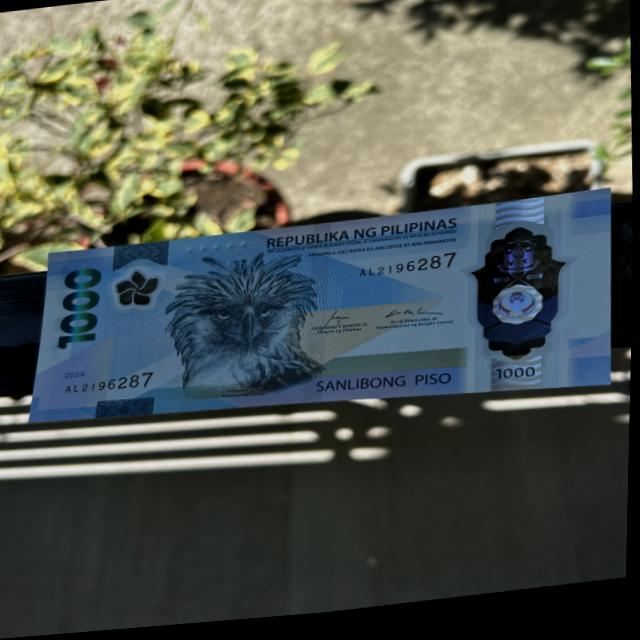clear_window: (462, 234, 558, 378)
eagle: (160, 251, 327, 407)
sampaguita: (111, 269, 161, 314)
serial_number: (358, 255, 465, 289), (64, 370, 153, 402)
value: (52, 263, 105, 350)
